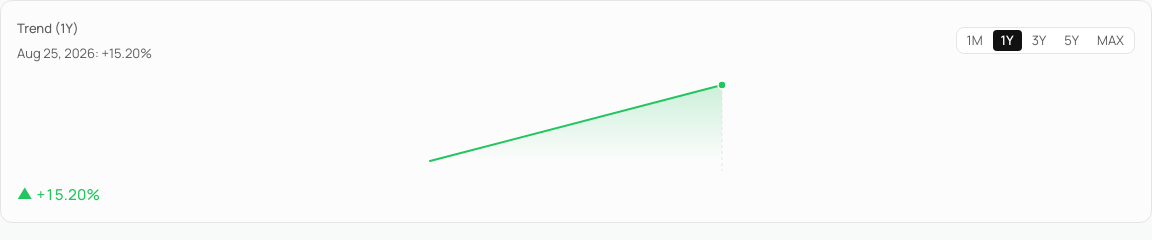
Test case: FundSignalGraph › refetches with the selected period
The width and height of the screenshot is (1152, 240).
Expected: the text "Aug 25, 2026: +15.20%" is shown, [17,44,152,63]
Click the button "5Y". click: (1072, 40)
box: [1056,30,1087,50]
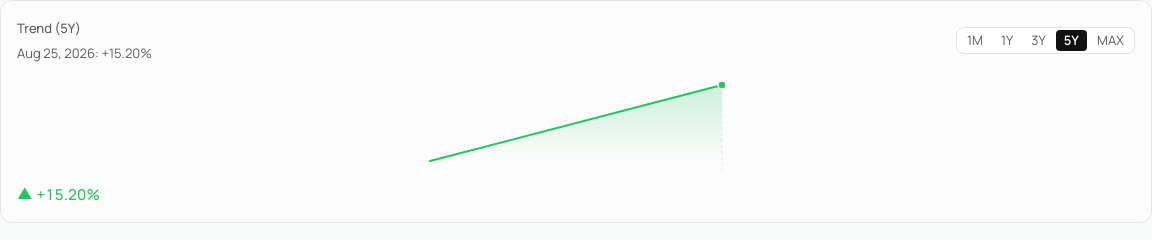
Result: the text "Trend (5Y)" is shown at [17,19,81,37]
